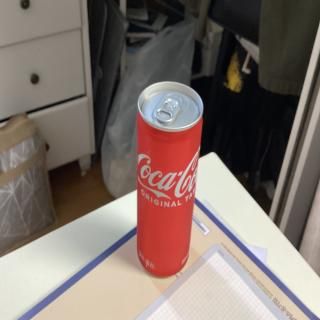cocacola: (133, 79, 206, 278)
